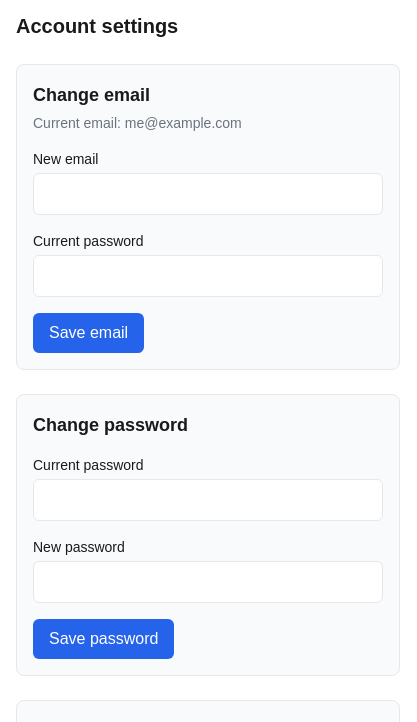
Scenario: SettingsPage › submits a new email with the current password
Type "new@example.com" into the field labelled "New email" at (208, 194), box [33, 173, 383, 215]
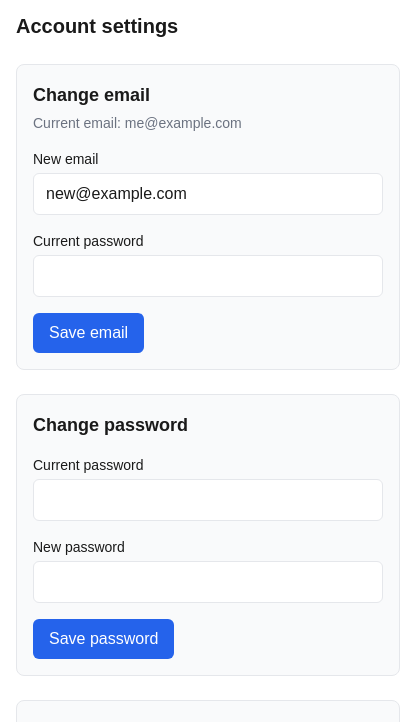
Type "goodpass1" into the password field with id "email-change-password" at (208, 276), box [33, 255, 383, 297]
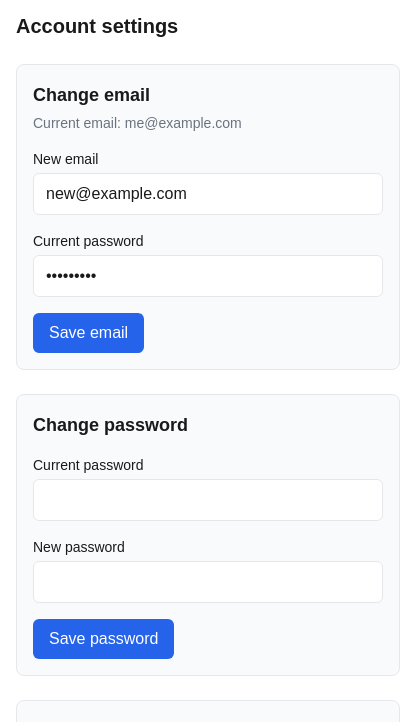
Click the button "Save email" at (89, 333), box [33, 313, 144, 353]
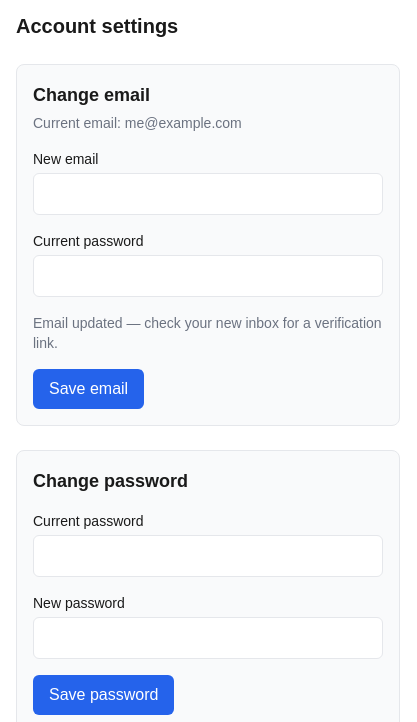
Expected: the text "Email updated — check your new inbox for a verification link." is shown, [33, 313, 383, 353]
